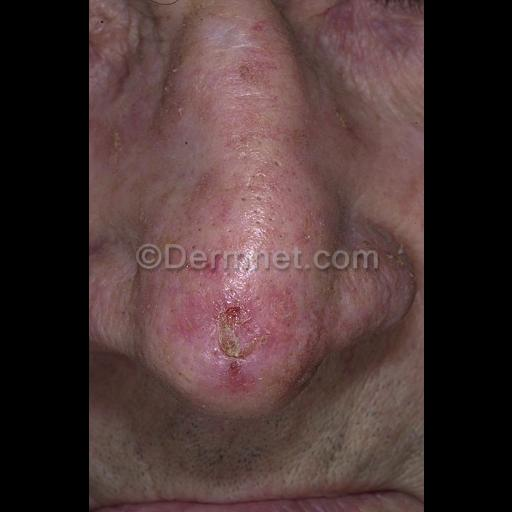Skin_Lesion: (368, 6, 422, 72), (212, 293, 262, 361), (322, 2, 358, 54), (298, 200, 316, 252), (249, 19, 265, 43)
